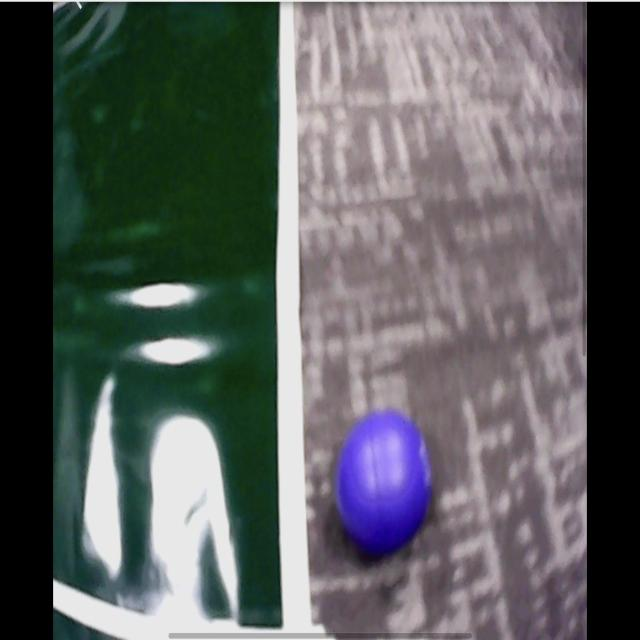ball: (339, 410, 432, 555)
